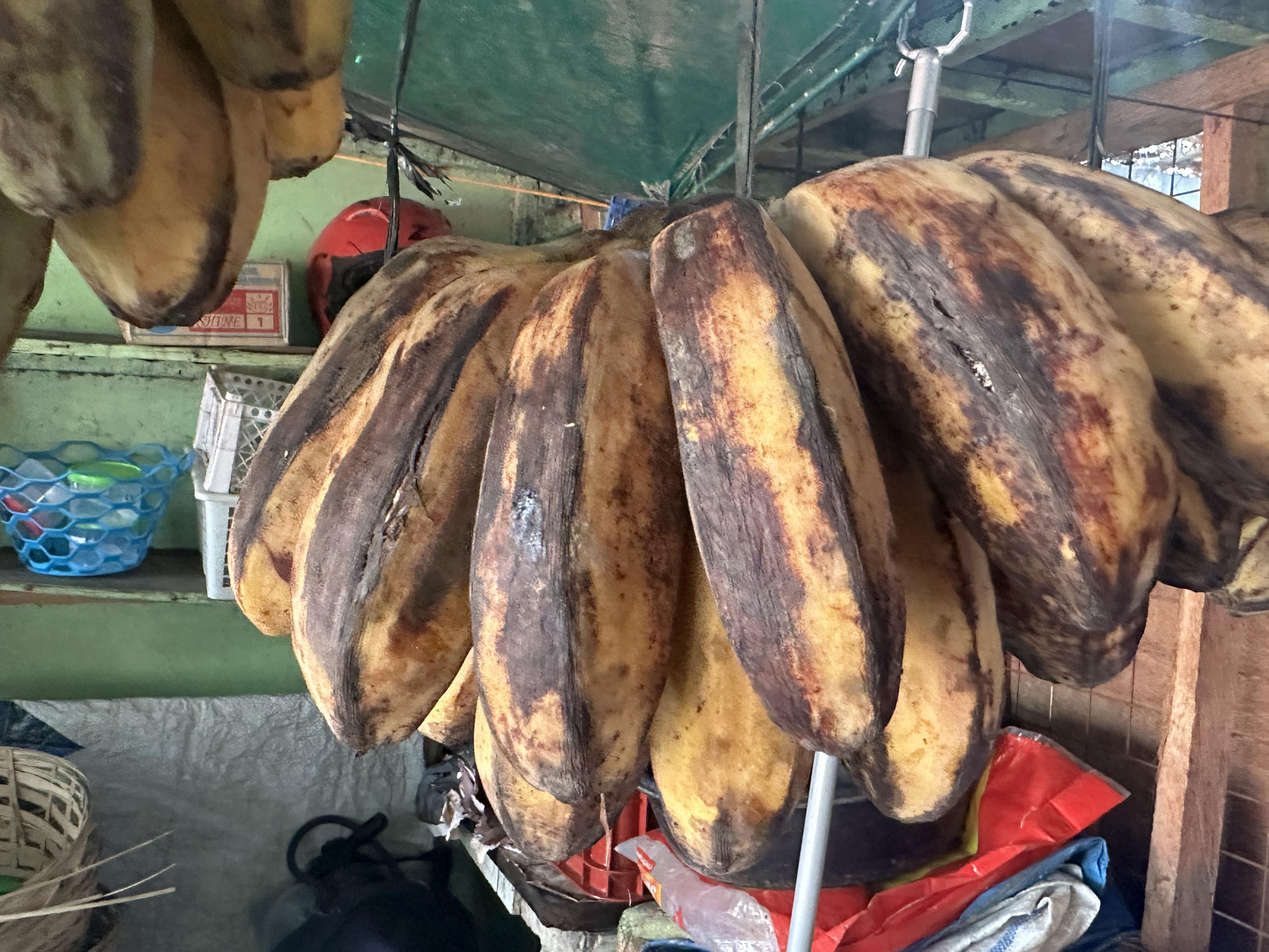ripe: (231, 151, 1269, 874)
underripe: (0, 0, 353, 358)
